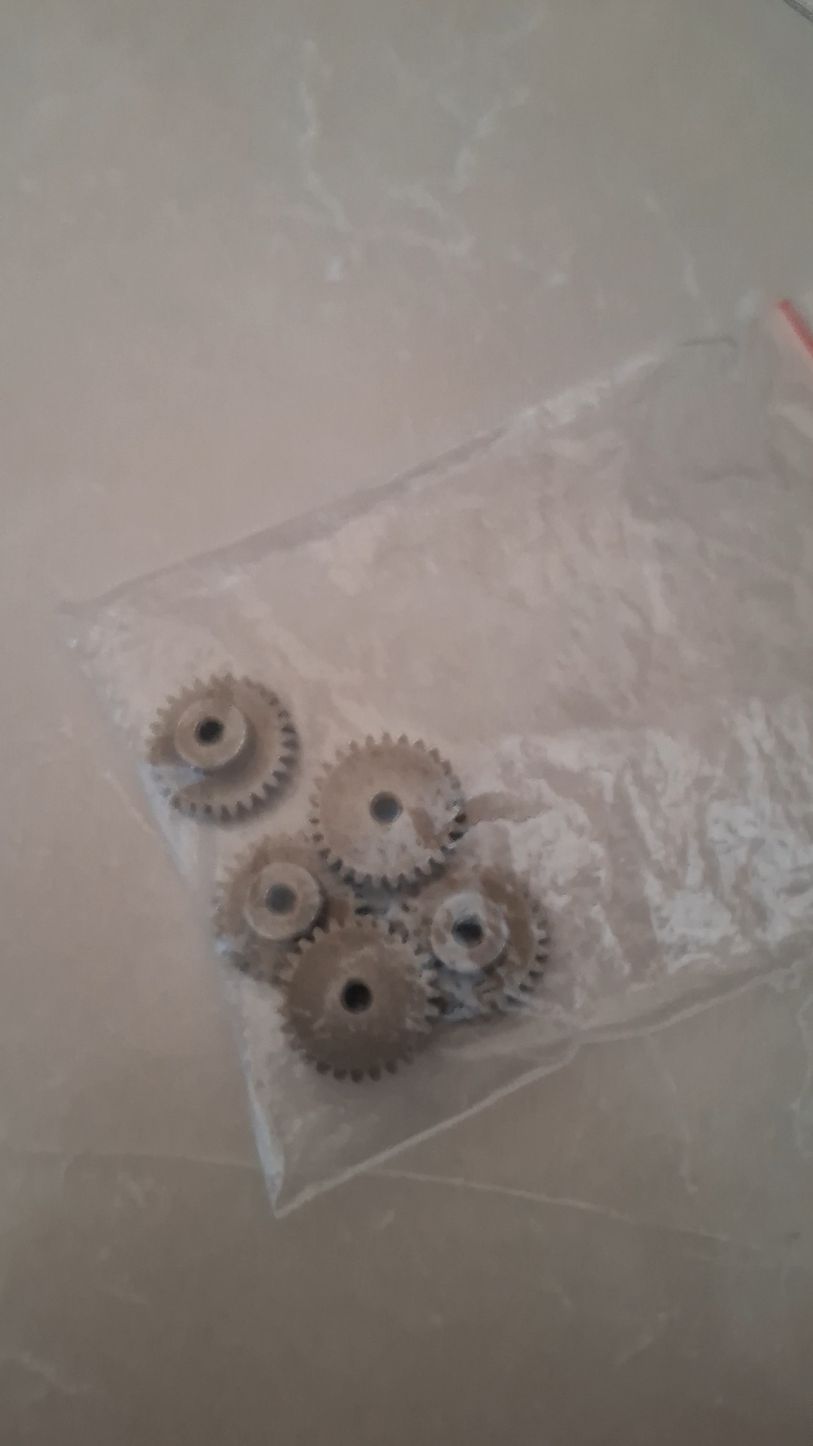spur gear: (282, 918, 436, 1080), (311, 735, 466, 887), (148, 675, 297, 820), (402, 868, 548, 1014), (214, 837, 356, 981)
